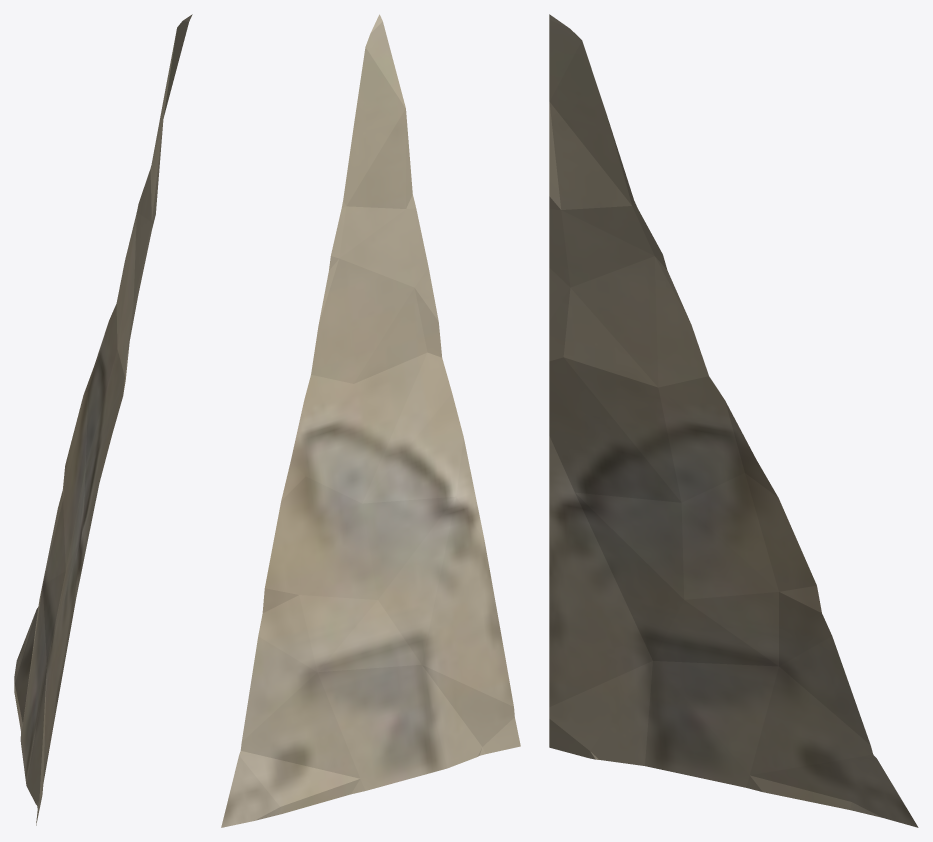
3 views of the same model, side by side, from view 1: azimuth 30°, elevation 25°; view 2: azimuth 150°, elevation 25°; view 3: azimuth 270°, elevation 25° (orthographic). The views are drawn at different scales.
Size of the model in its own units: 0.2248 by 1.06 by 0.4366.
Materials: 1 (1 with a texture image).
